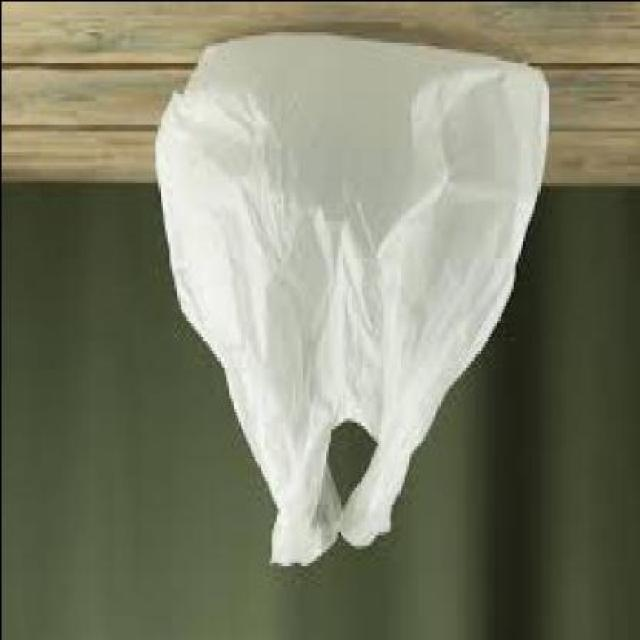PLASTIC: (152, 34, 546, 568)
